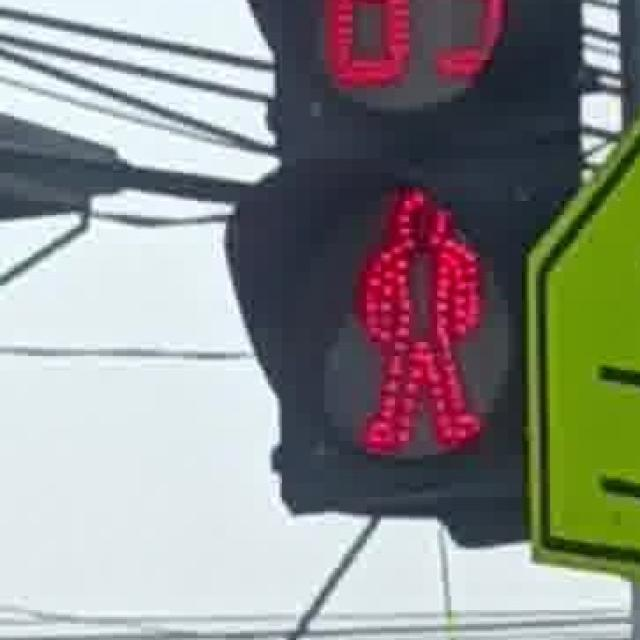red-crossing: (335, 172, 492, 454)
